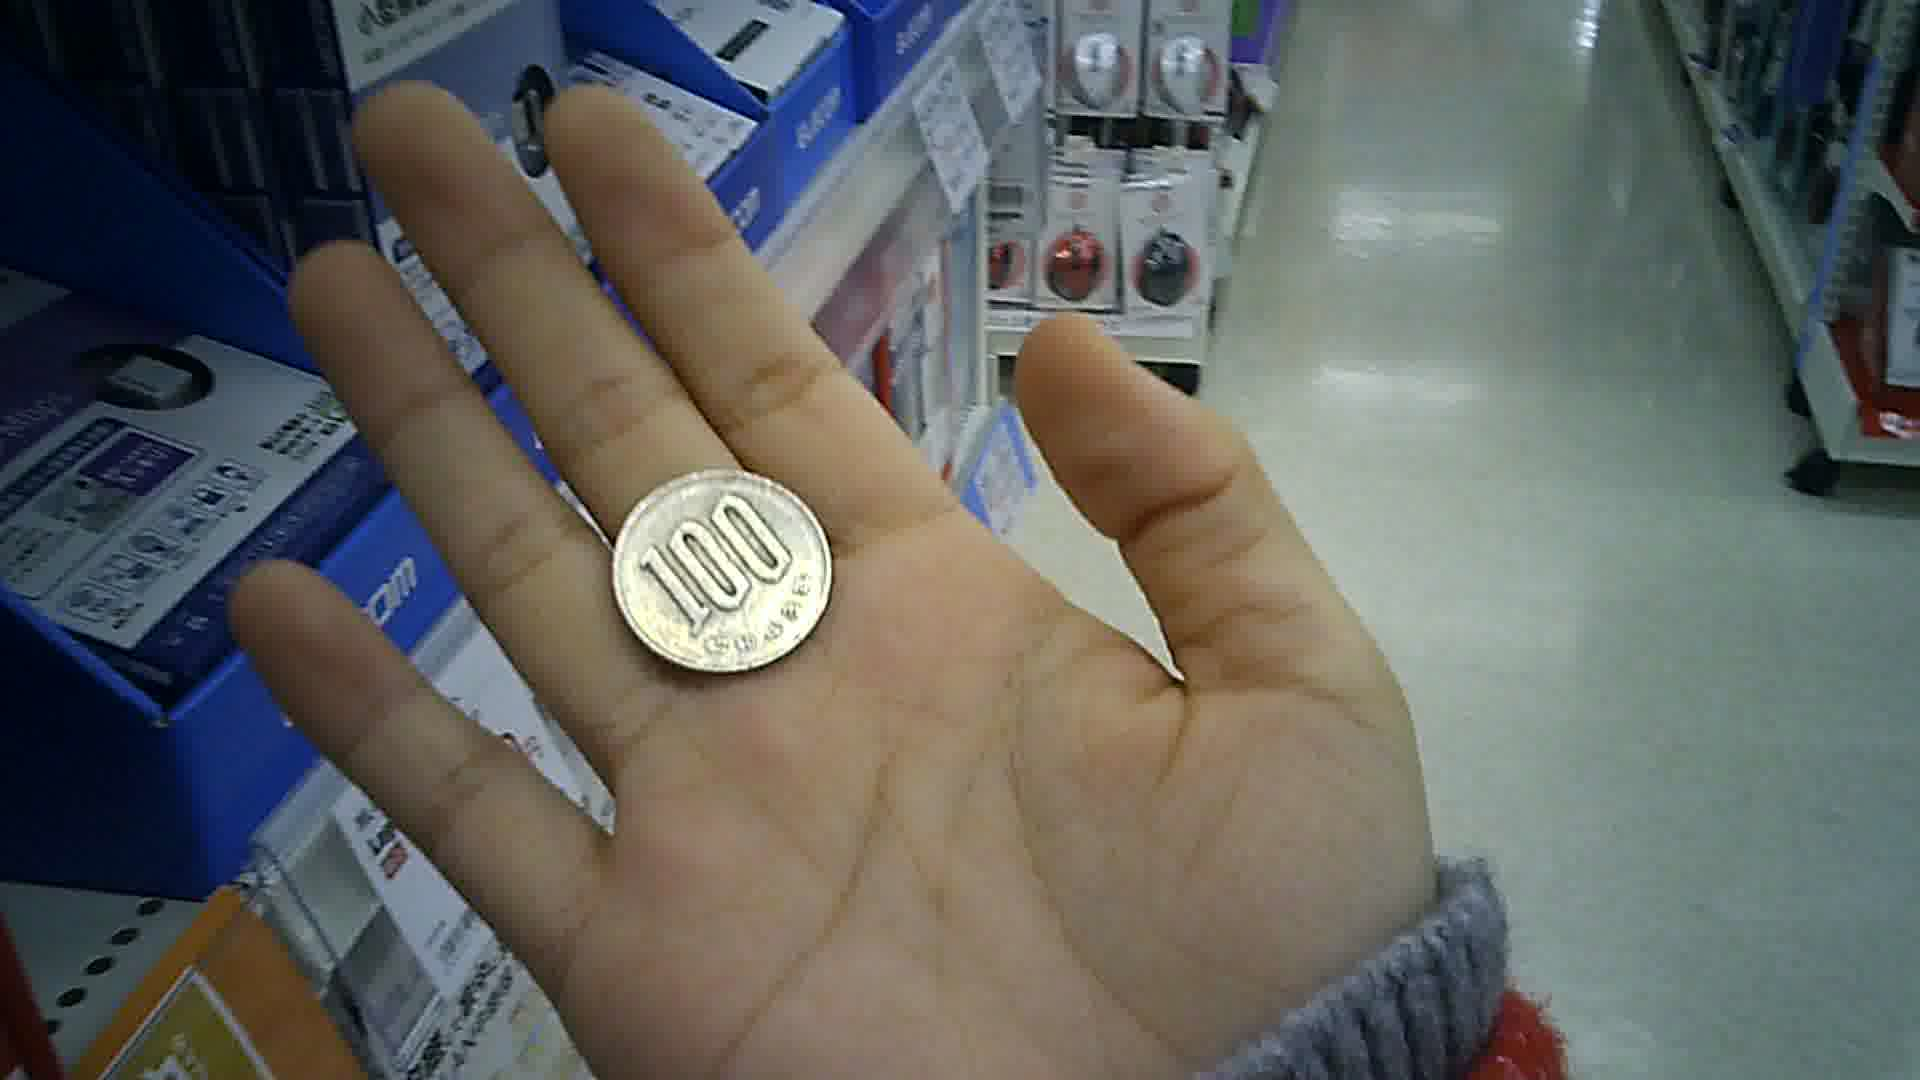100 Yen: (601, 465, 853, 709)
